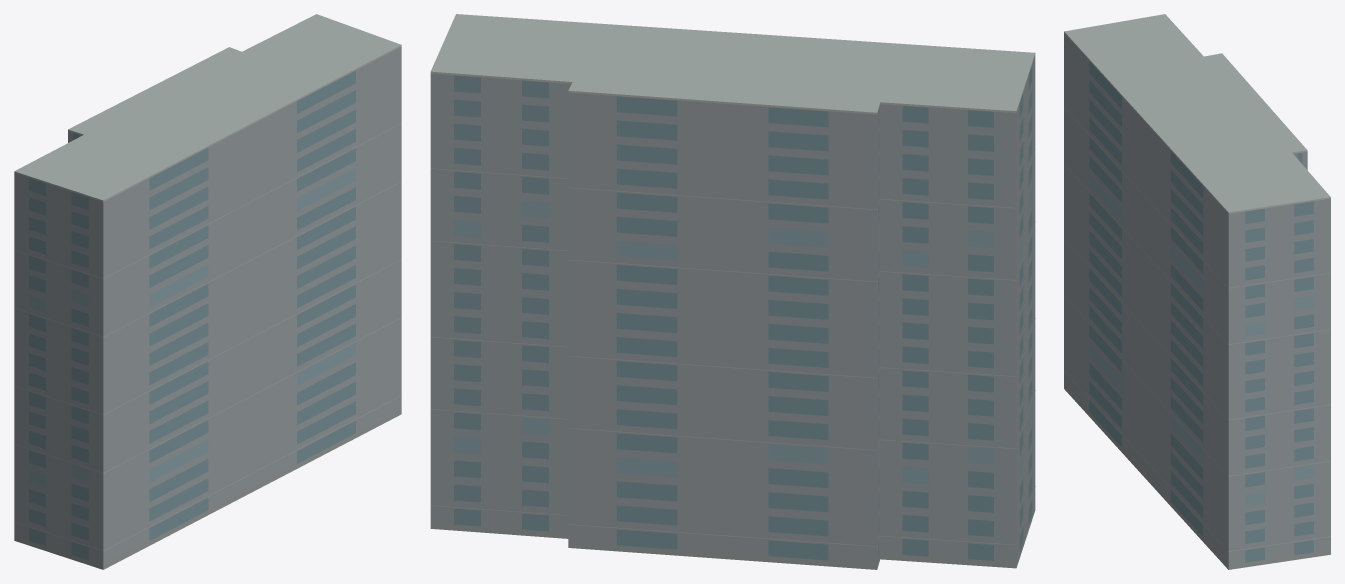
File: survey-upis-32863395.glb
3 renders of one model, left to right at view 1: azimuth 30°, elevation 25°; view 2: azimuth 150°, elevation 25°; view 3: azimuth 270°, elevation 25°, orthographic. The views are drawn at different scales.
Visible parts, largest first — view 1: survey-upis-32863395.tmp; view 2: survey-upis-32863395.tmp; view 3: survey-upis-32863395.tmp.
Boxes of the visible parts, x1,y1,x2,y2 form: survey-upis-32863395.tmp: (14,14,401,569); survey-upis-32863395.tmp: (430,14,1035,569); survey-upis-32863395.tmp: (1064,14,1330,569).
Size of the model in its own units: 69 by 57.95 by 39.21.
